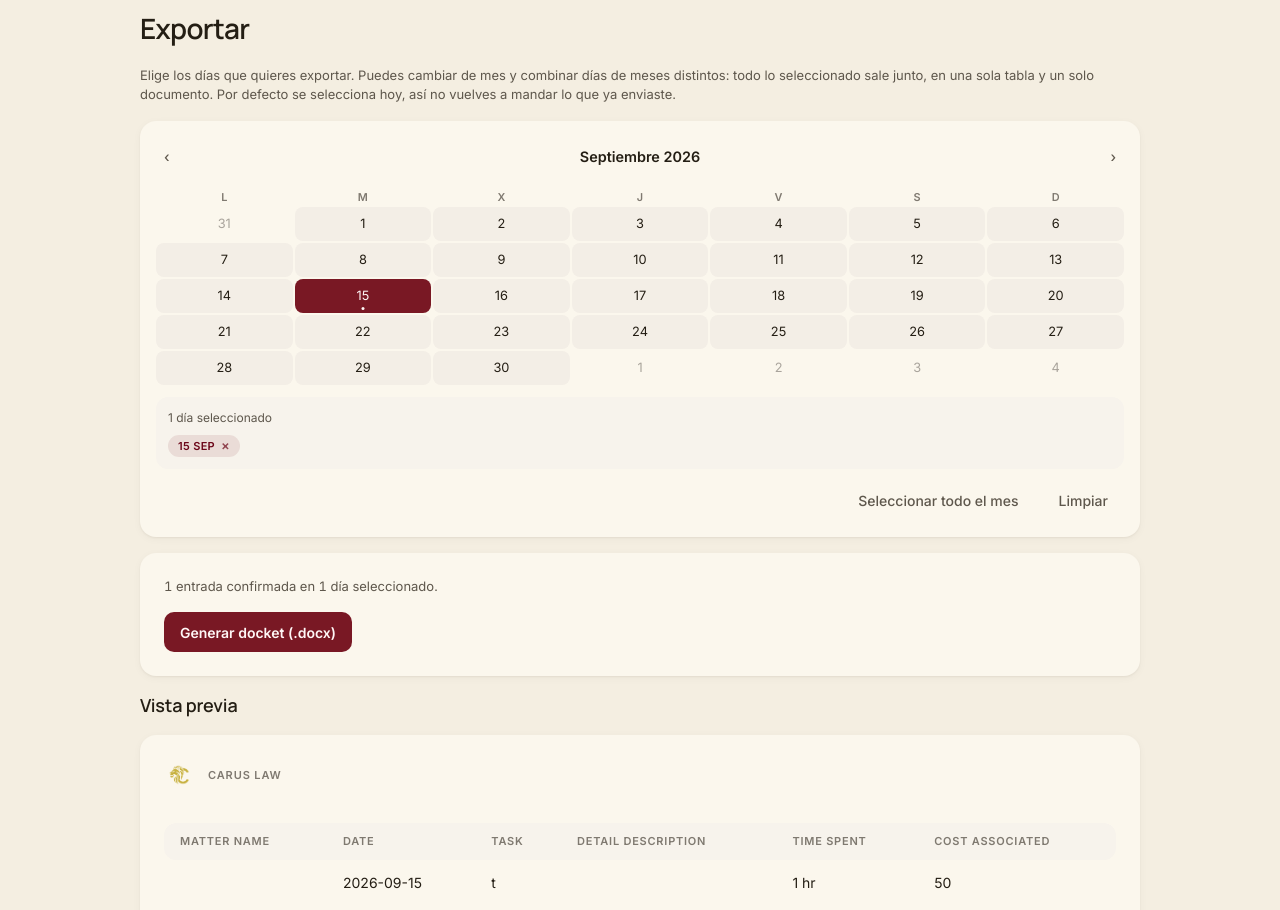
Export › defaults to only today and exports today's confirmed entries
The width and height of the screenshot is (1280, 910).
Expected: the text "1 entrada confirmada en 1 día seleccionado." is shown, left=164, top=578, right=438, bottom=594
Click the button "Generar docket (.docx)".
click(258, 632)  # box left=164, top=612, right=352, bottom=652
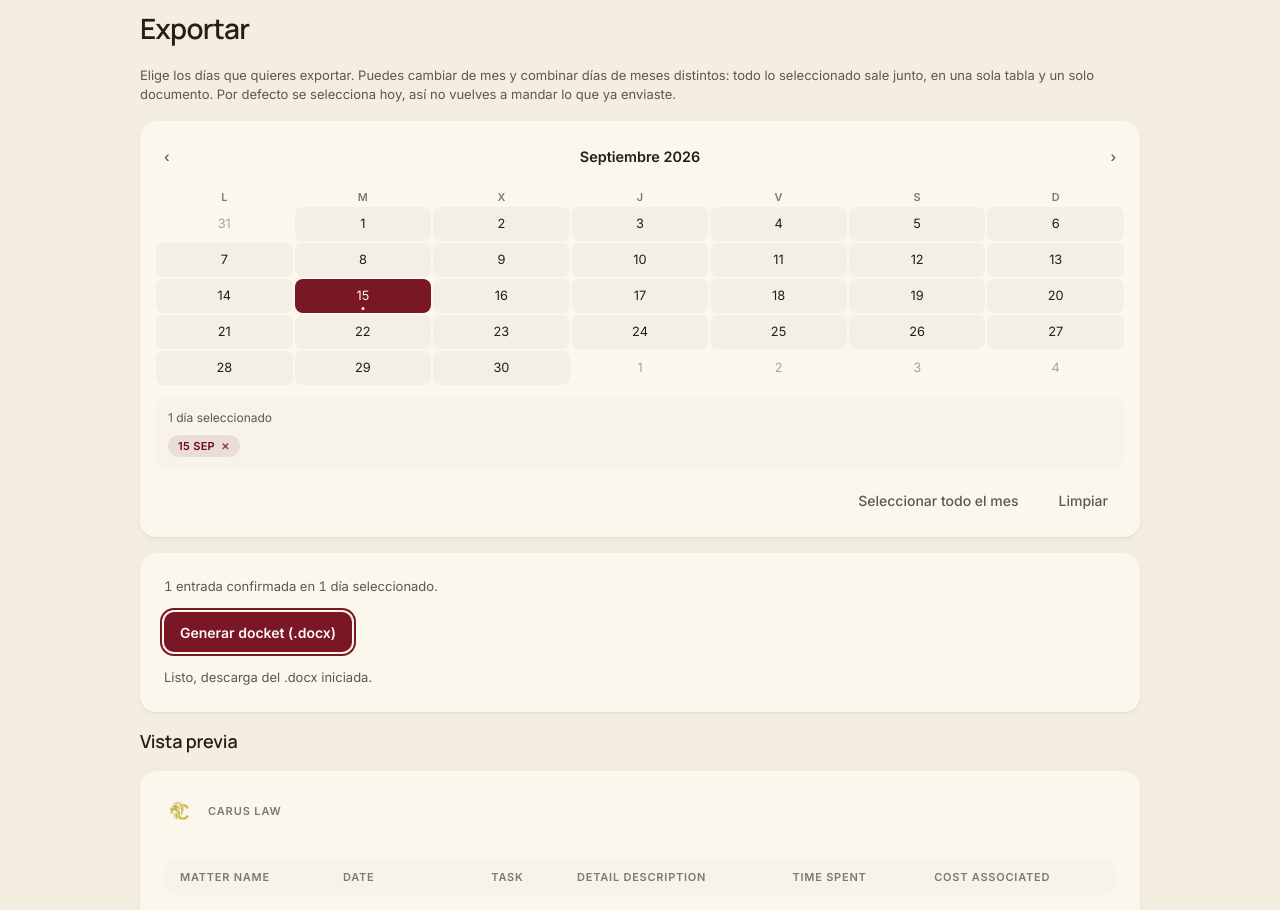
Expected: the text "Listo, descarga del .docx iniciada." is shown, left=164, top=669, right=372, bottom=685
